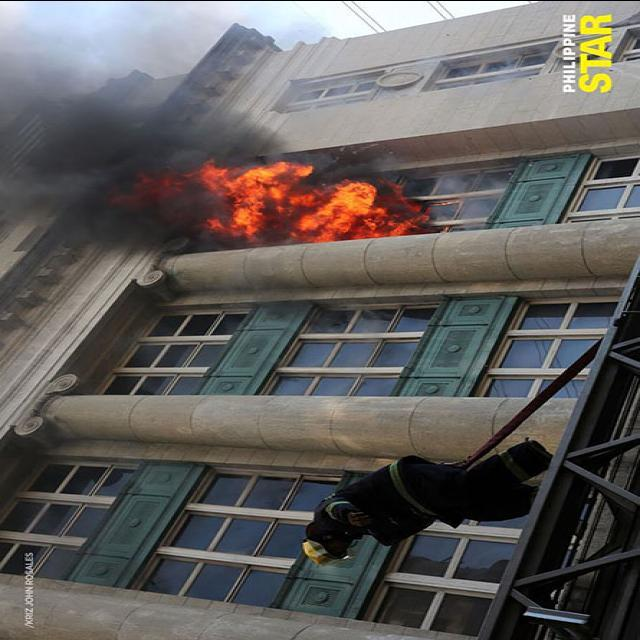Fire: (178, 149, 432, 257)
